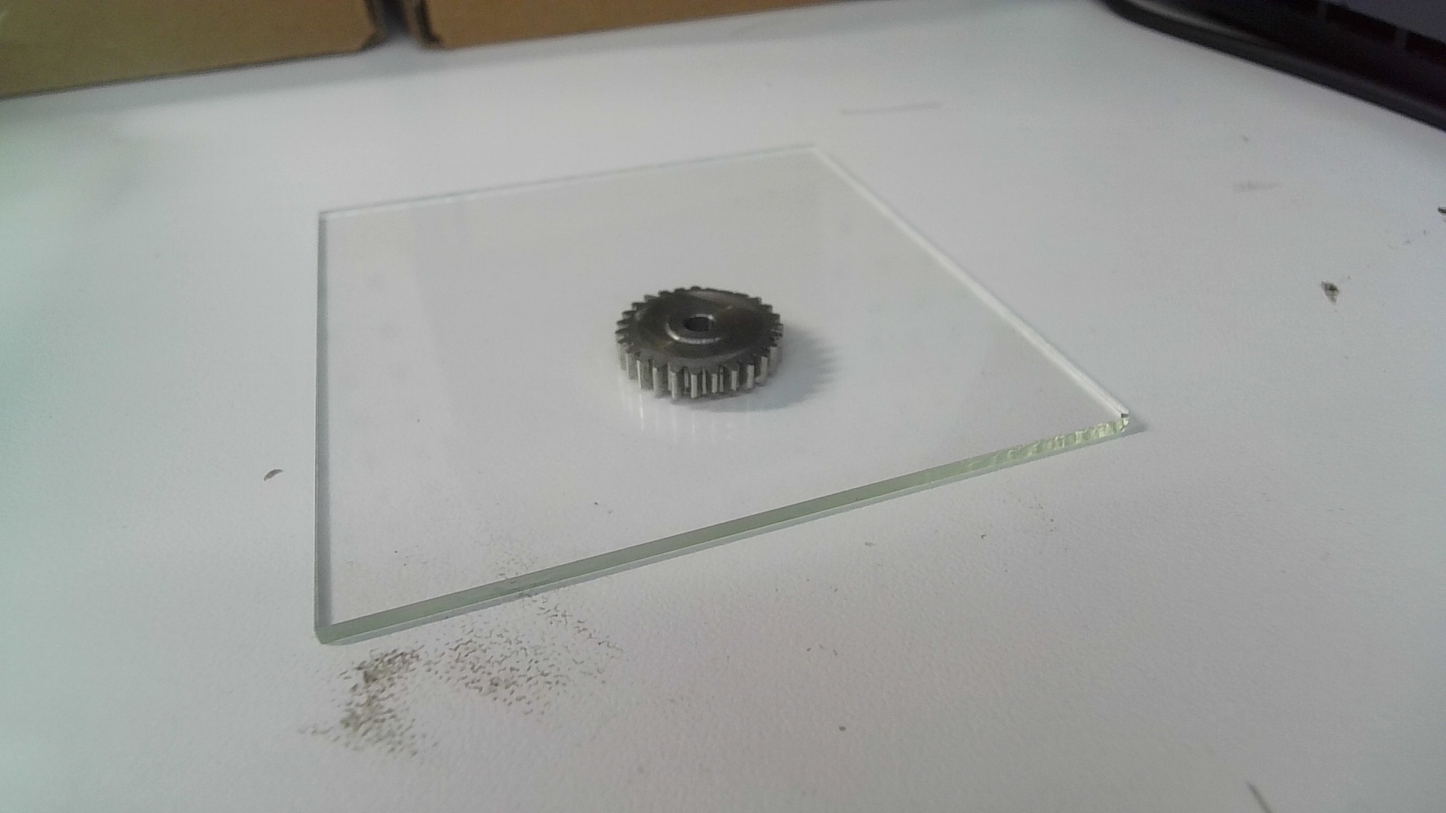gear: (608, 280, 789, 405)
